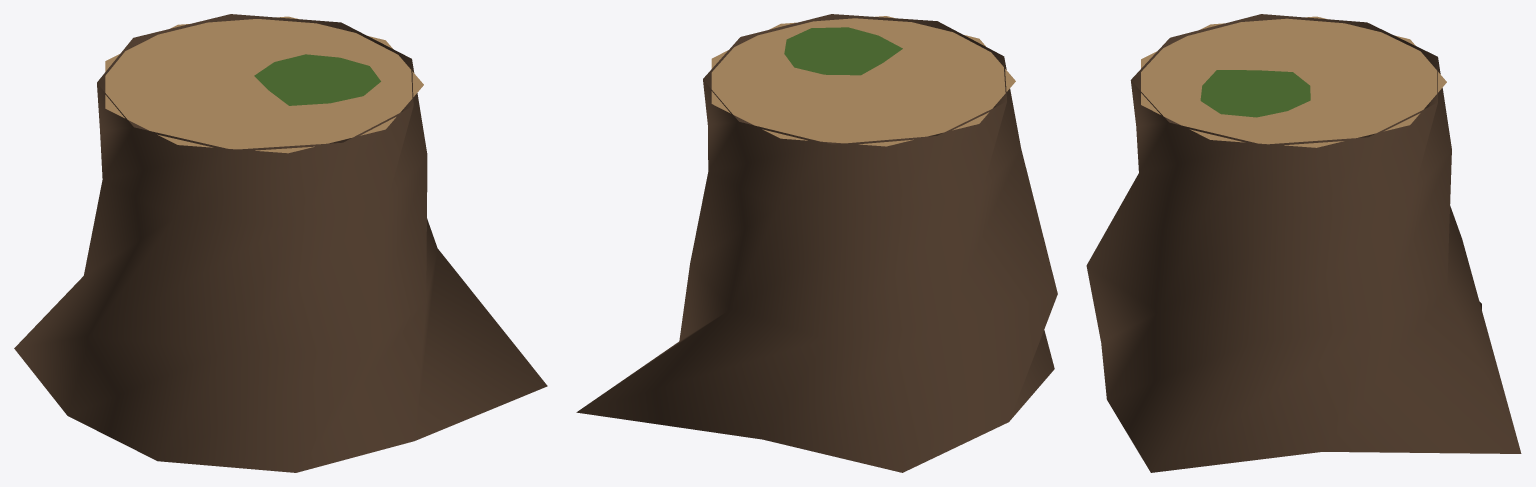
File: StumpA.glb
3 views of the same model, side by side, from view 1: azimuth 30°, elevation 25°; view 2: azimuth 150°, elevation 25°; view 3: azimuth 270°, elevation 25° (orthographic). The views are drawn at different scales.
Visible parts, largest first — view 1: StumpA.bark, StumpA.wood, StumpA.moss; view 2: StumpA.bark, StumpA.wood, StumpA.moss; view 3: StumpA.bark, StumpA.wood, StumpA.moss.
Part boxes in pixels (x1=…): StumpA.bark: x1=14, y1=14, x2=547, y2=472; StumpA.wood: x1=105, y1=16, x2=423, y2=153; StumpA.moss: x1=254, y1=54, x2=380, y2=105; StumpA.bark: x1=576, y1=14, x2=1057, y2=472; StumpA.wood: x1=711, y1=16, x2=1015, y2=146; StumpA.moss: x1=784, y1=27, x2=902, y2=75; StumpA.bark: x1=1086, y1=14, x2=1521, y2=472; StumpA.wood: x1=1141, y1=16, x2=1446, y2=147; StumpA.moss: x1=1200, y1=70, x2=1310, y2=117.
Bounding box in the file's own units: 3.45 × 2.55 × 3.34.
